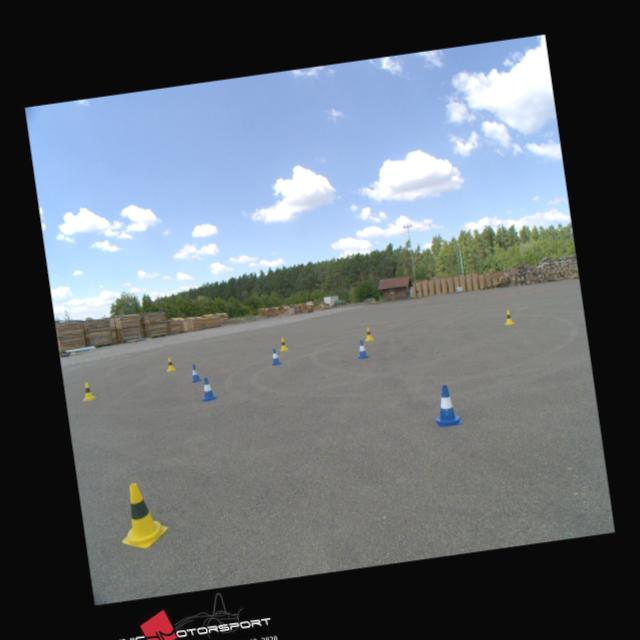blue_cone: (430, 383, 462, 428), (200, 378, 216, 402), (188, 364, 200, 382), (269, 348, 282, 364), (356, 341, 368, 358)
yellow_cone: (114, 479, 170, 551), (80, 382, 96, 400), (502, 309, 514, 325), (278, 336, 288, 351), (165, 357, 175, 371), (364, 327, 374, 341)
